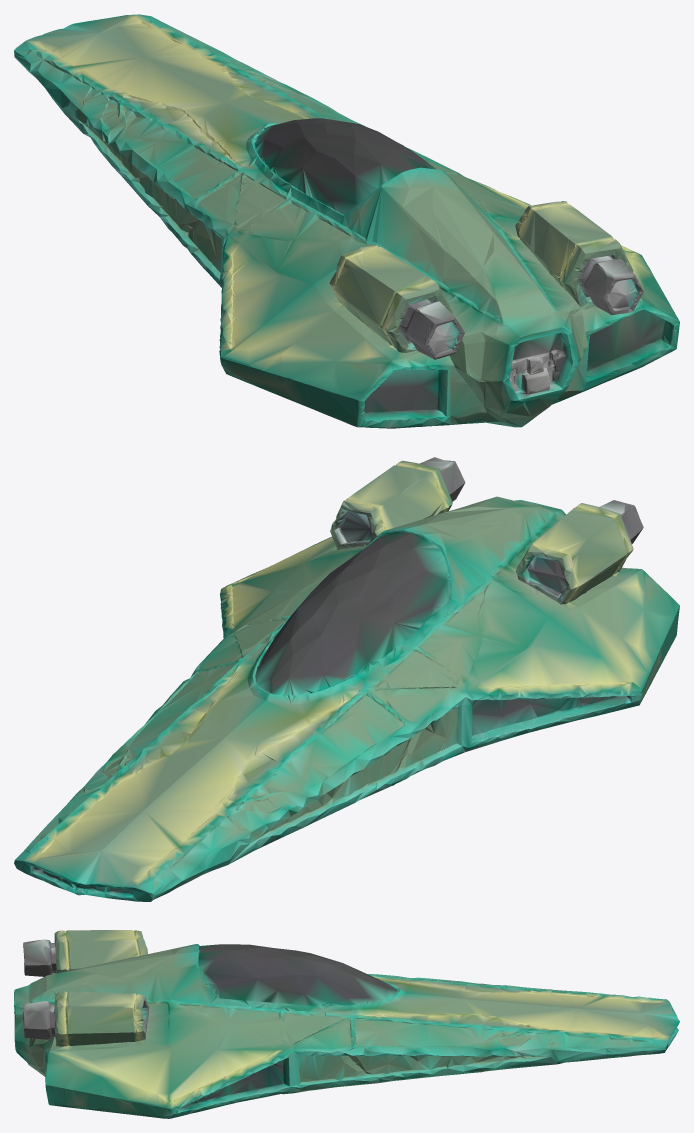
Rendered from viper_hi.glb.
The picture shows the model from 3 angles, top to bottom: view 1: azimuth 30°, elevation 25°; view 2: azimuth 150°, elevation 25°; view 3: azimuth 270°, elevation 25°; orthographic projection. The views are drawn at different scales.
Parts seen in each view (by area): view 1: geometry_0; view 2: geometry_0; view 3: geometry_0.
Part boxes in pixels (left/top/right/bottom): geometry_0: left=14, top=14, right=679, bottom=428; geometry_0: left=14, top=457, right=679, bottom=901; geometry_0: left=14, top=930, right=679, bottom=1118.
Size of the model in its own units: 5.6 by 2.27 by 10.8.
